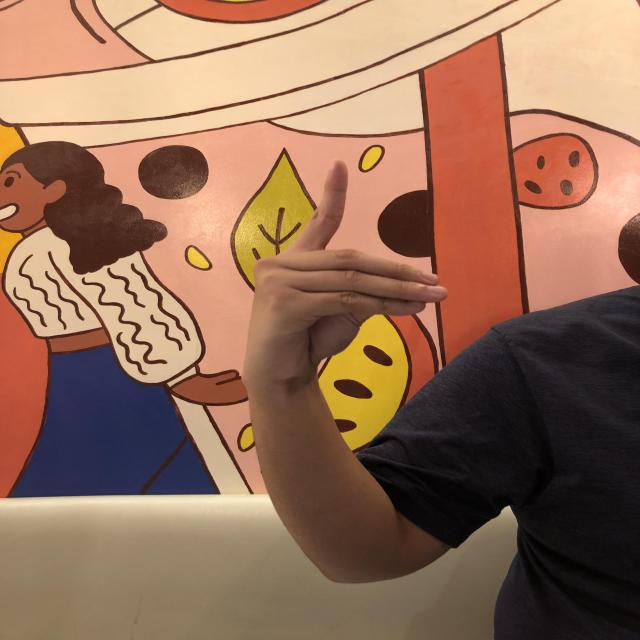D: (239, 158, 450, 386)
